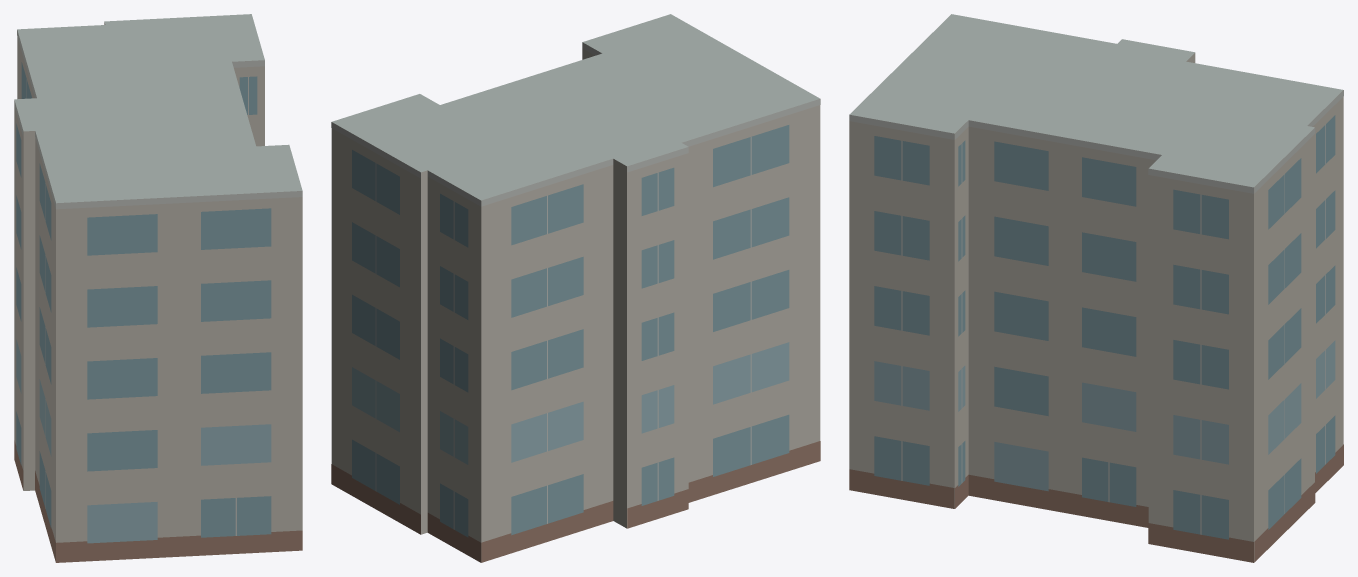
Rendered from survey-upis-32912251.glb.
The picture shows the model from 3 angles, left to right: view 1: azimuth 30°, elevation 25°; view 2: azimuth 150°, elevation 25°; view 3: azimuth 270°, elevation 25°; orthographic projection. The views are drawn at different scales.
Visible parts, largest first — view 1: survey-upis-32912251.tmp; view 2: survey-upis-32912251.tmp; view 3: survey-upis-32912251.tmp.
Boxes of the visible parts, x1=… form: survey-upis-32912251.tmp: x1=14, y1=14, x2=302, y2=562; survey-upis-32912251.tmp: x1=331, y1=14, x2=820, y2=562; survey-upis-32912251.tmp: x1=849, y1=14, x2=1343, y2=562.
Bounding box in the file's own units: 14.18 × 14.3 × 17.08.
